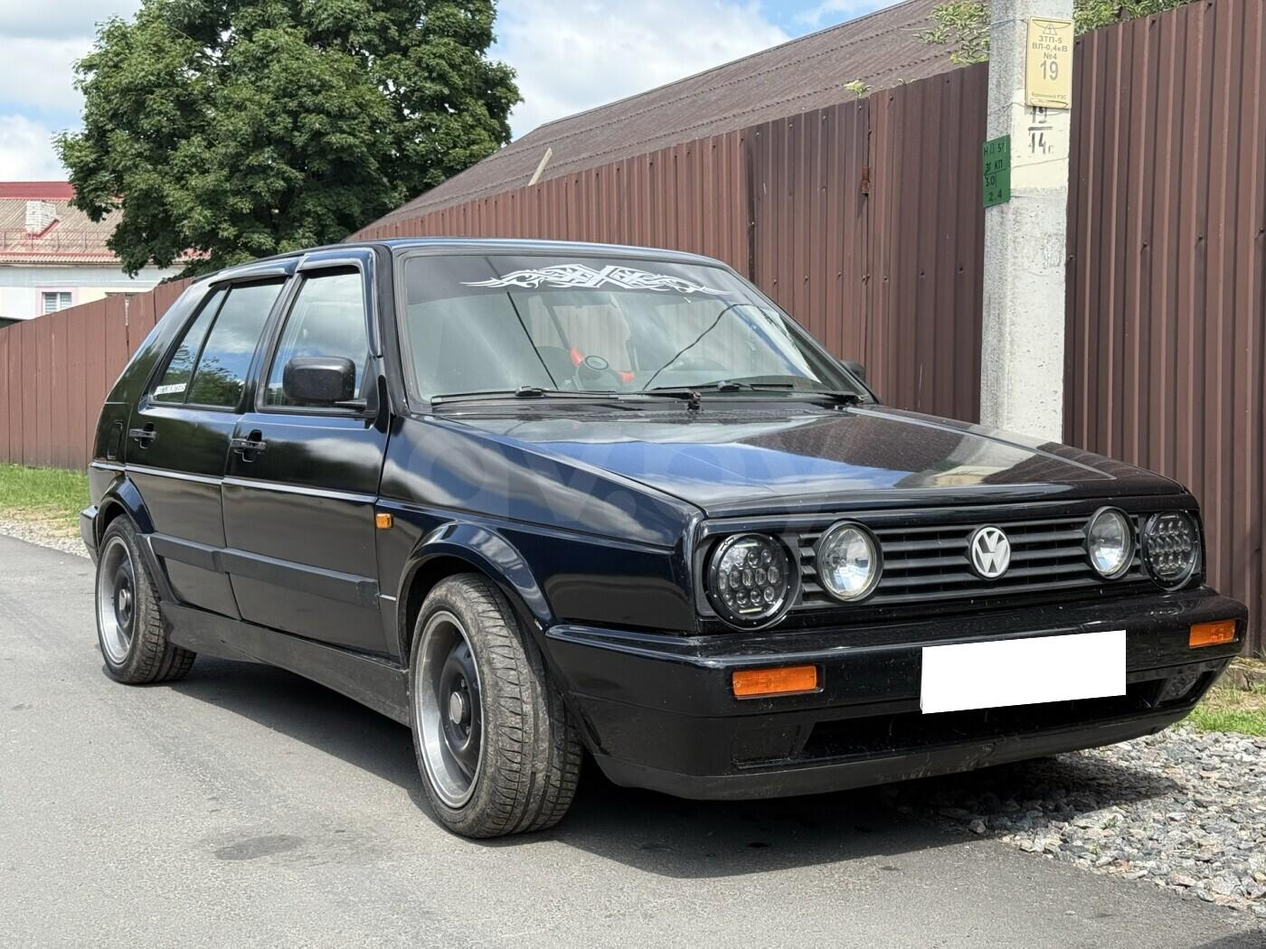Golf_1983-1992: (76, 239, 1245, 851)
